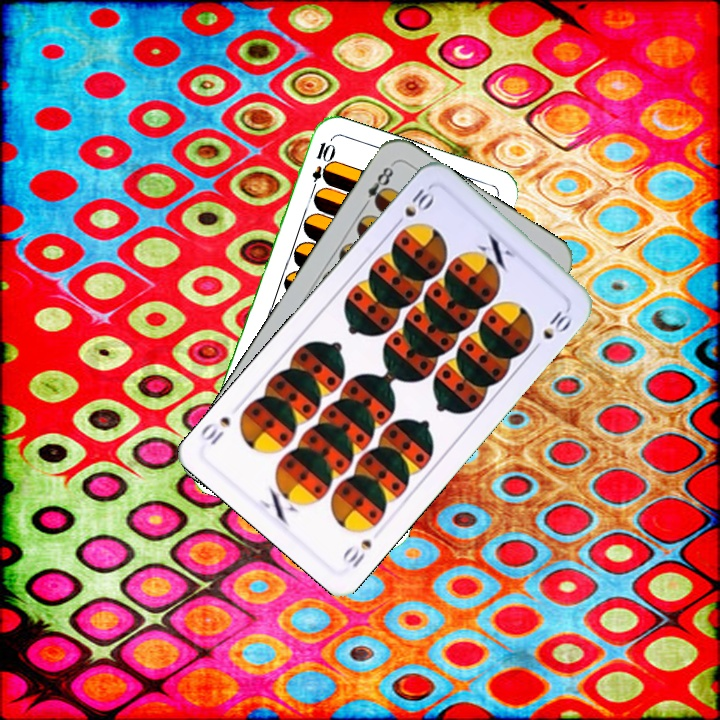E10: (307, 138, 335, 196)
E8: (358, 161, 397, 212)
S10: (389, 183, 438, 231), (338, 535, 375, 571)
